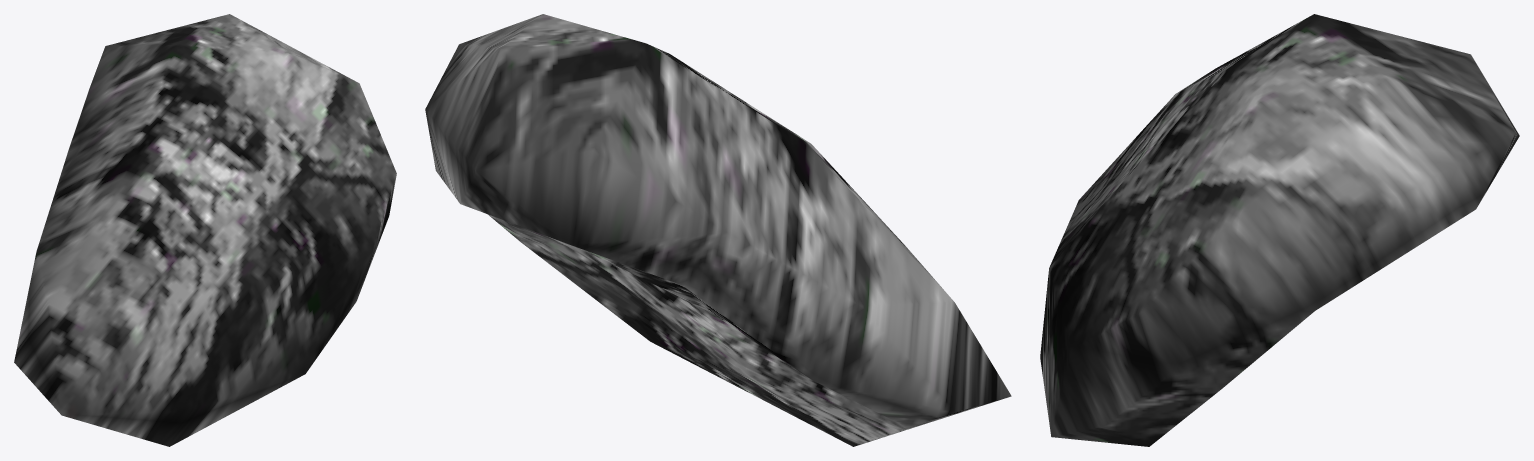
3 renders of one model, left to right at view 1: azimuth 30°, elevation 25°; view 2: azimuth 150°, elevation 25°; view 3: azimuth 270°, elevation 25°, orthographic. The views are drawn at different scales.
Parts seen in each view (by area): view 1: Stone03; view 2: Stone03; view 3: Stone03.
Part boxes in pixels (bbox=[...]): Stone03: bbox=[14, 14, 396, 446]; Stone03: bbox=[425, 14, 1011, 446]; Stone03: bbox=[1040, 14, 1519, 446].
Size of the model in its own units: 231 by 195 by 178.
